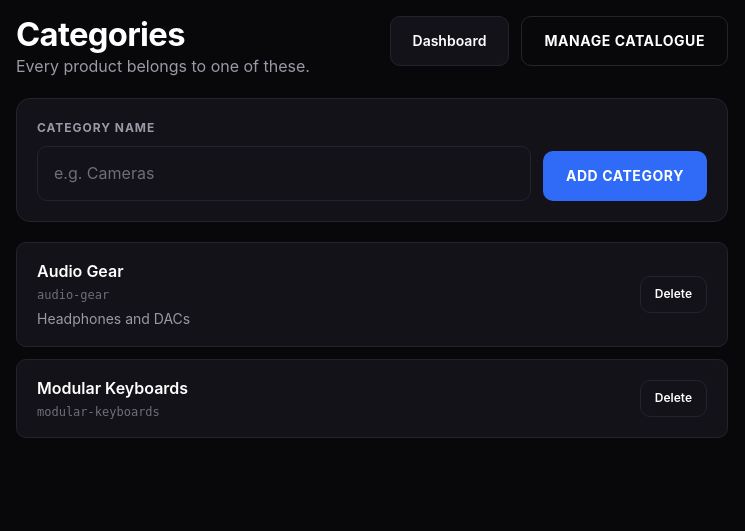
Test: deleting a category › a category still in use surfaces the server's refusal
Expected: the text "Audio Gear" is shown, [37,261,124,281]
Click the button "Delete" in the row of "Audio Gear".
click(673, 294)  # box [640,276,707,313]
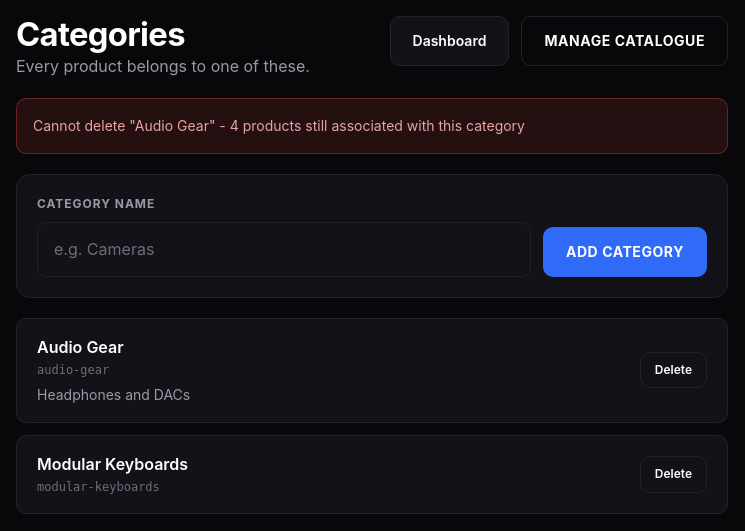
Now the message shows "4 products still associated", box [33,118,525,134]
